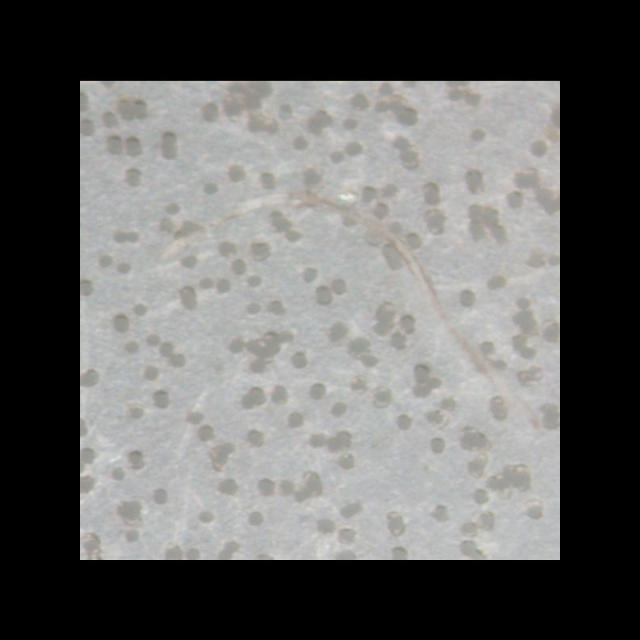Fibre: (148, 191, 556, 439)
